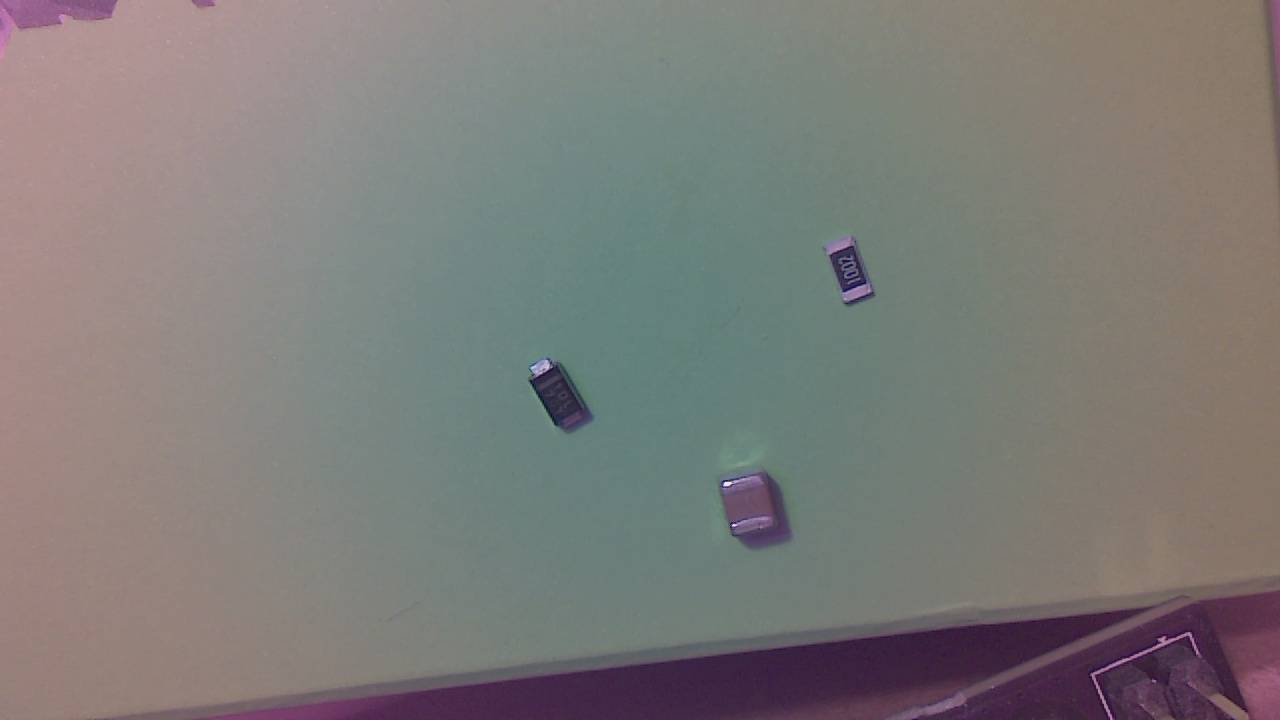Condensator: (720, 479, 787, 543)
Diode: (532, 359, 597, 437)
Resistor: (829, 243, 878, 310)
